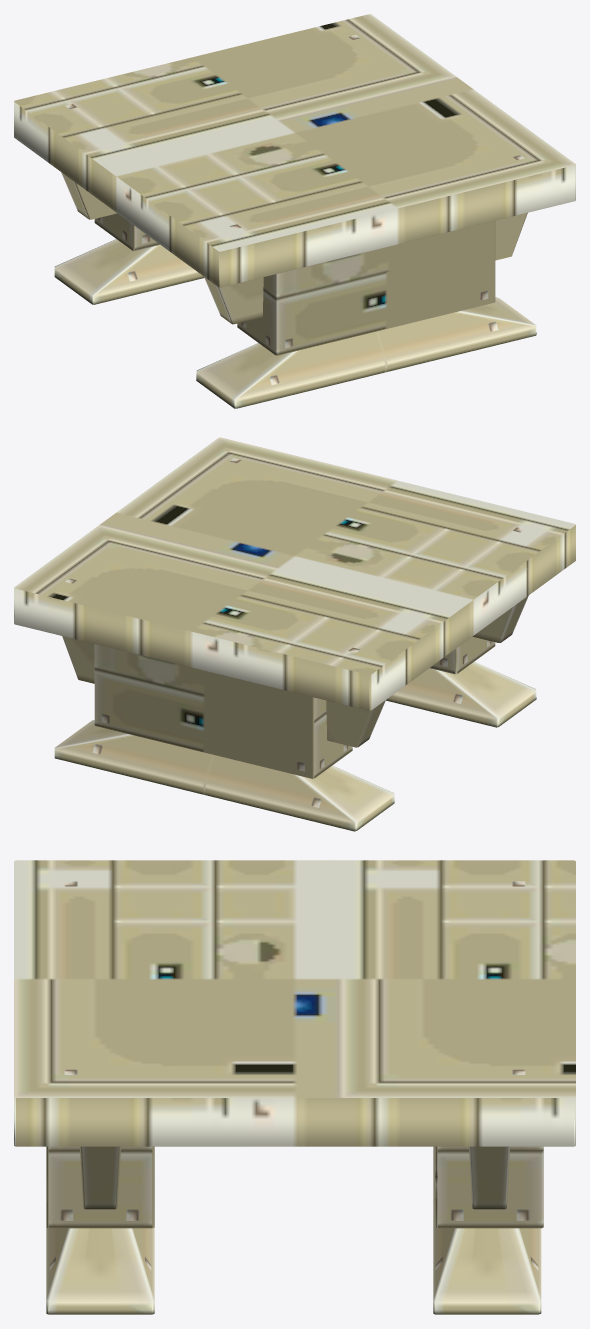
File: rmk_rob_tableL.dae
The picture shows the model from 3 angles, top to bottom: view 1: azimuth 30°, elevation 25°; view 2: azimuth 150°, elevation 25°; view 3: azimuth 270°, elevation 25°; orthographic projection. The views are drawn at different scales.
Parts seen in each view (by area): view 1: rmk_rob_tableL; view 2: rmk_rob_tableL; view 3: rmk_rob_tableL.
Boxes of the visible parts, x1,y1,x2,y2 form: rmk_rob_tableL: (14,14,575,408); rmk_rob_tableL: (14,437,575,831); rmk_rob_tableL: (14,860,575,1314).
Size of the model in its own units: 52 by 24.1 by 52.
Materials: 1 (1 with a texture image).
